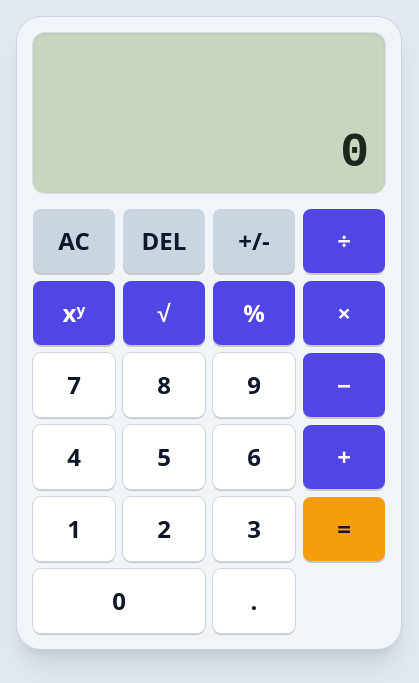
Test: Calculator › runs a unary operation immediately, without pressing equals
Click the button "1" at x=74, y=529, box [33, 497, 115, 561]
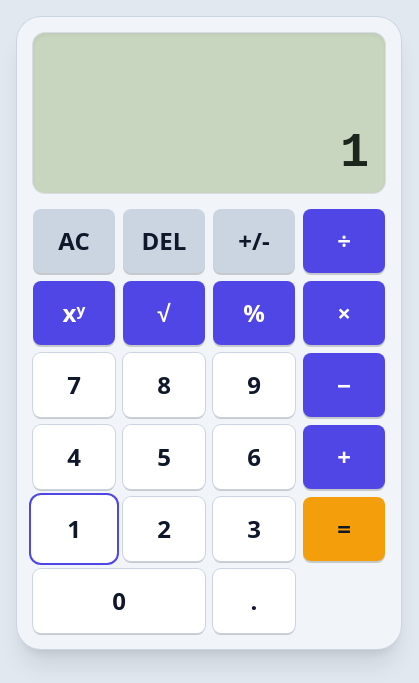
Click the button "6" at x=254, y=457, box [213, 425, 295, 489]
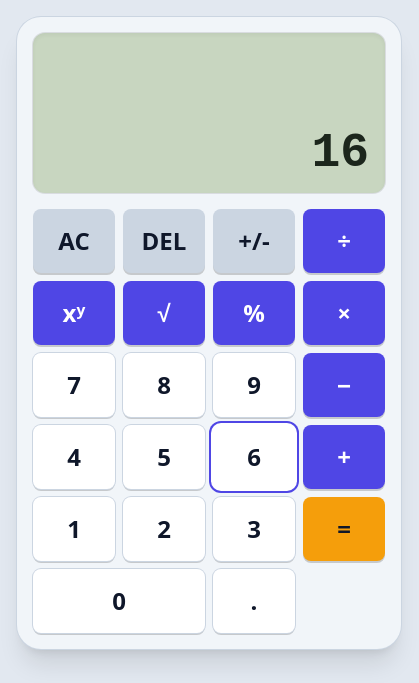
Click the button named "Square root" at x=164, y=313, box [123, 281, 205, 345]
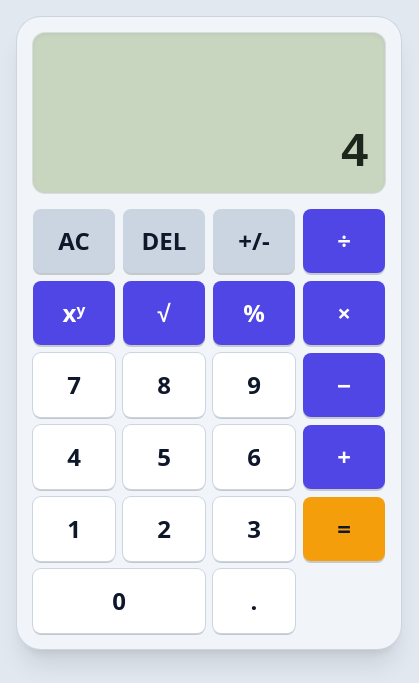
Result: the text "4" is shown at [340, 126, 369, 180]
